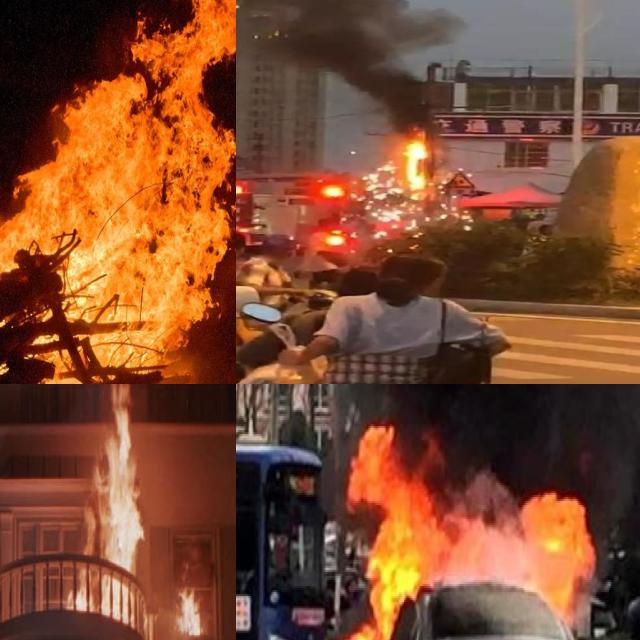fire: (0, 0, 236, 384), (313, 409, 594, 640), (77, 396, 142, 634), (364, 127, 448, 217), (172, 577, 231, 640)
smoke: (236, 0, 460, 128)
